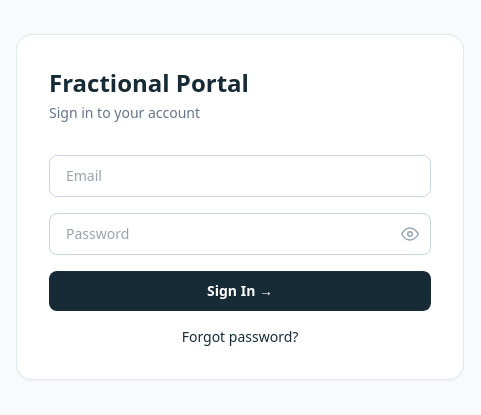
LoginPage › shows generic error on failed login — no enumeration info
Type "user@example.com" into the field with placeholder "Email" at (240, 176), box x1=49 y1=155 x2=431 y2=197
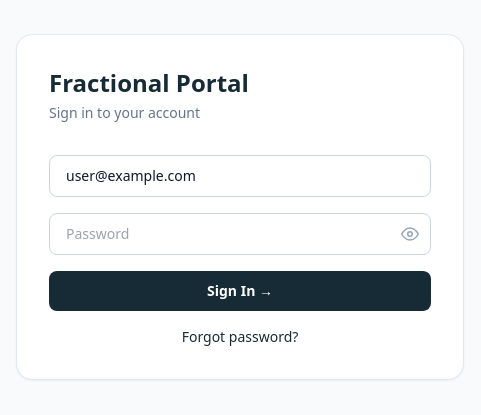
Type "wrongpassword" into the password field with placeholder "Password" at (240, 234), box x1=49 y1=213 x2=431 y2=255
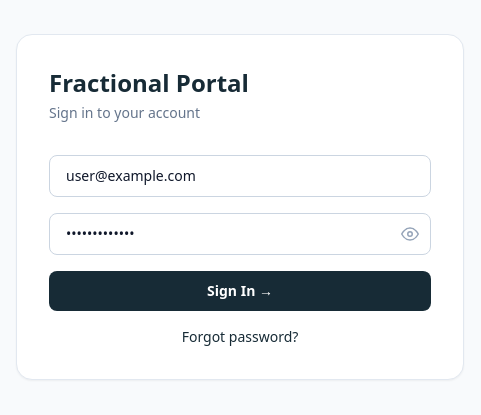
Click the button "Sign In →" at (240, 291), box x1=49 y1=271 x2=431 y2=311
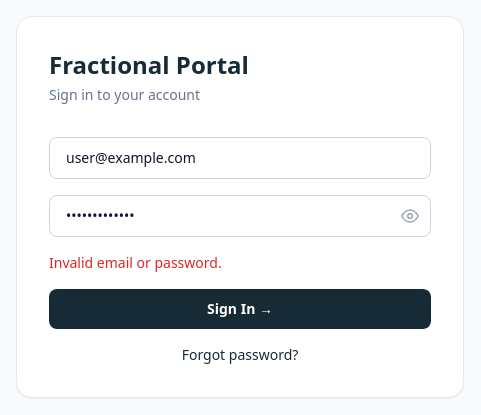
Expected: the text "Invalid email or password." is shown, x1=49 y1=253 x2=222 y2=272
